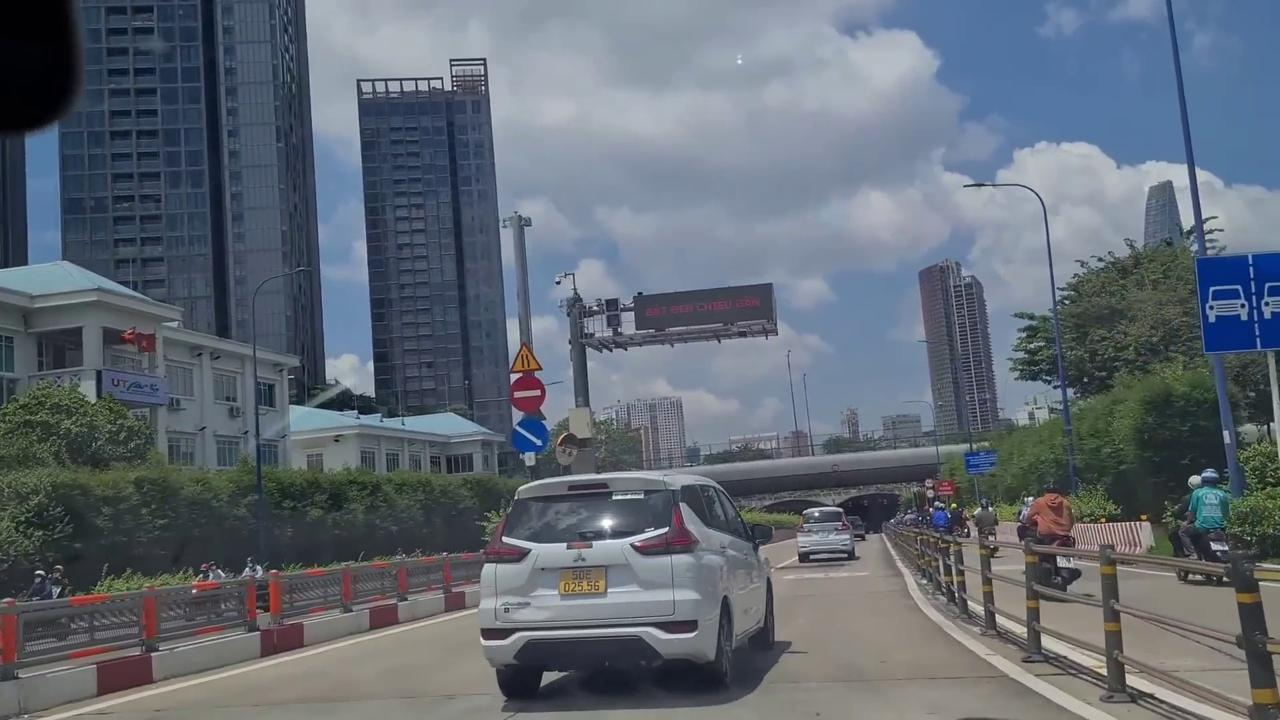Cấm đi ngược chiều: (510, 375, 548, 414)
Hướng phải đi vòng sang phải: (510, 416, 548, 454)
Đuờng hẹp: (511, 341, 544, 373)
